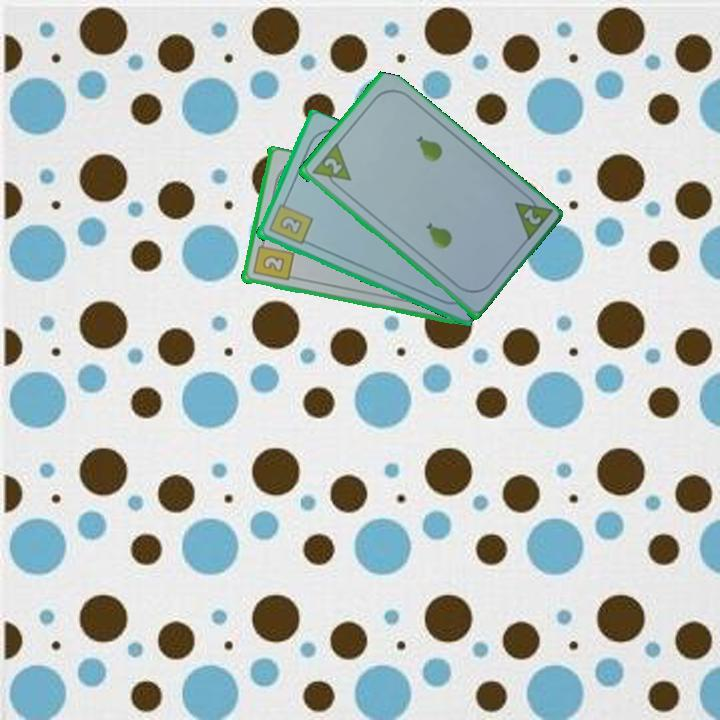2b: (265, 196, 315, 248), (249, 236, 296, 284)
2p: (307, 141, 354, 194), (519, 205, 544, 228)
